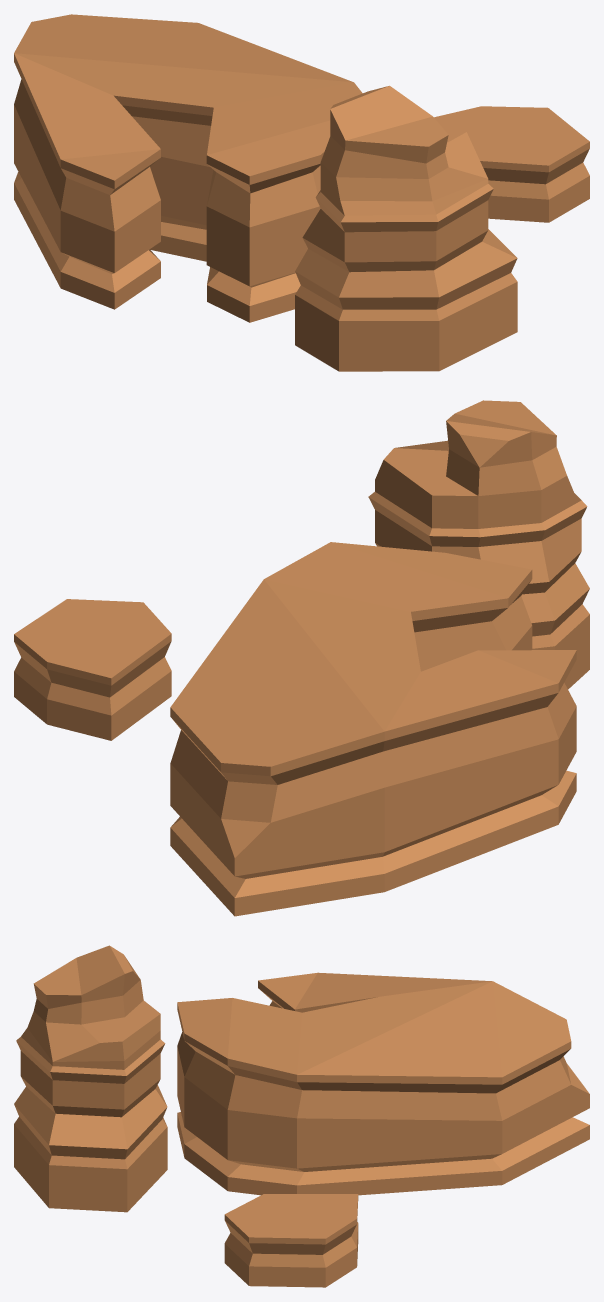
File: SandRocks_M3_LOD1.fbx
3 renders of one model, top to bottom at view 1: azimuth 30°, elevation 25°; view 2: azimuth 150°, elevation 25°; view 3: azimuth 270°, elevation 25°, orthographic. The views are drawn at different scales.
Visible parts, largest first — view 1: 26; view 2: 26; view 3: 26.
Boxes of the visible parts, x1=… form: 26: x1=14, y1=14, x2=589, y2=371; 26: x1=14, y1=400, x2=589, y2=916; 26: x1=14, y1=945, x2=589, y2=1287.
Bounding box in the file's own units: 81.6 × 37.41 × 97.
